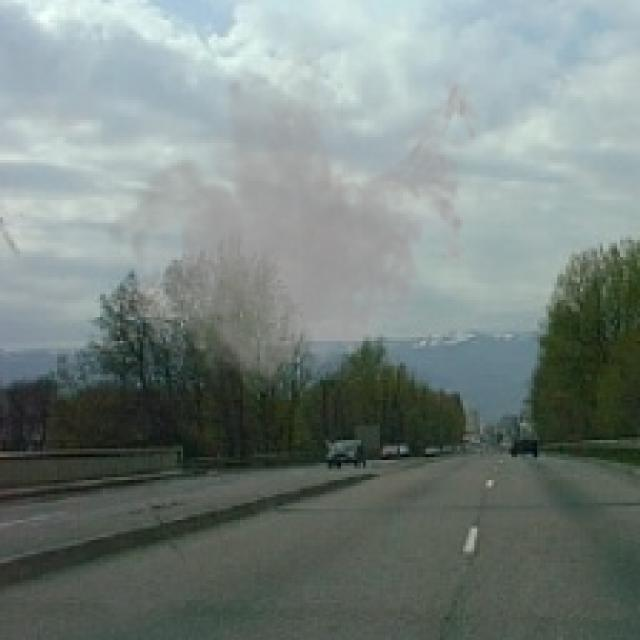Smoke: (102, 14, 492, 406)
